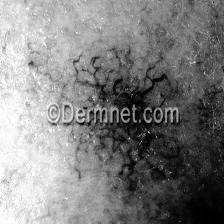Benign Marking or Mole: (69, 126, 179, 184), (52, 53, 172, 99)
